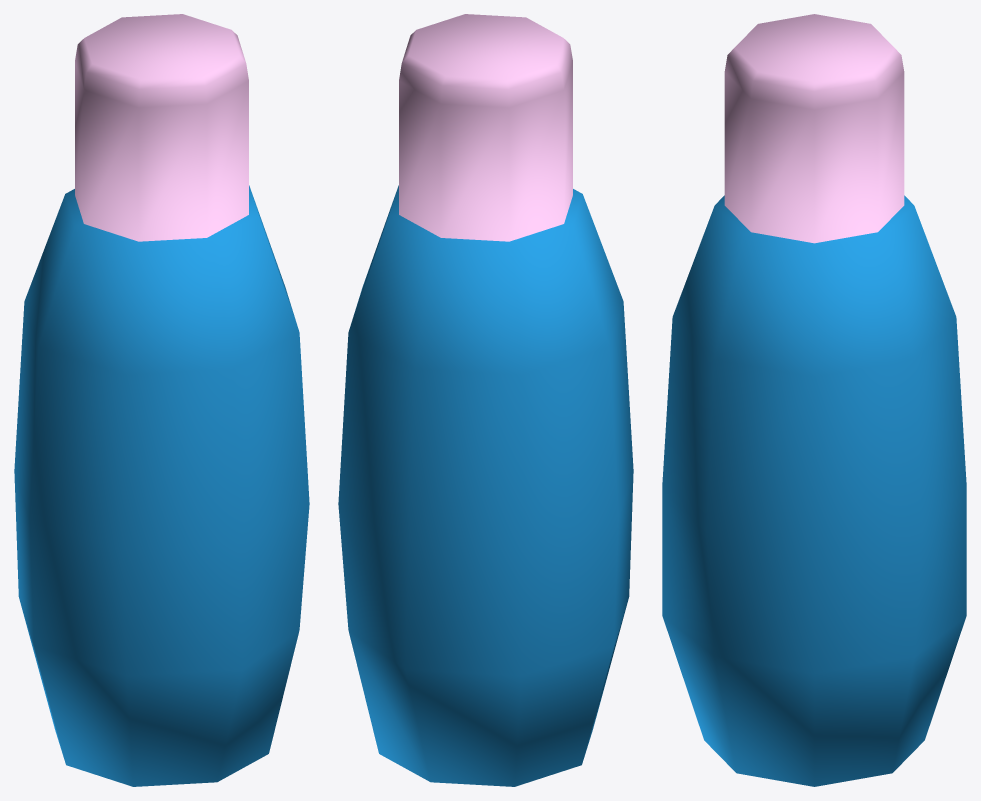
Rendered from bottle medium.fbx.
3 renders of one model, left to right at view 1: azimuth 30°, elevation 25°; view 2: azimuth 150°, elevation 25°; view 3: azimuth 270°, elevation 25°, orthographic.
Parts seen in each view (by area): view 1: bottle medium; view 2: bottle medium; view 3: bottle medium.
Boxes of the visible parts, x1=… form: bottle medium: x1=14, y1=14, x2=309, y2=786; bottle medium: x1=338, y1=14, x2=633, y2=786; bottle medium: x1=662, y1=14, x2=966, y2=786.
Bounding box in the file's own units: 0.2086 × 0.5233 × 0.2086.
